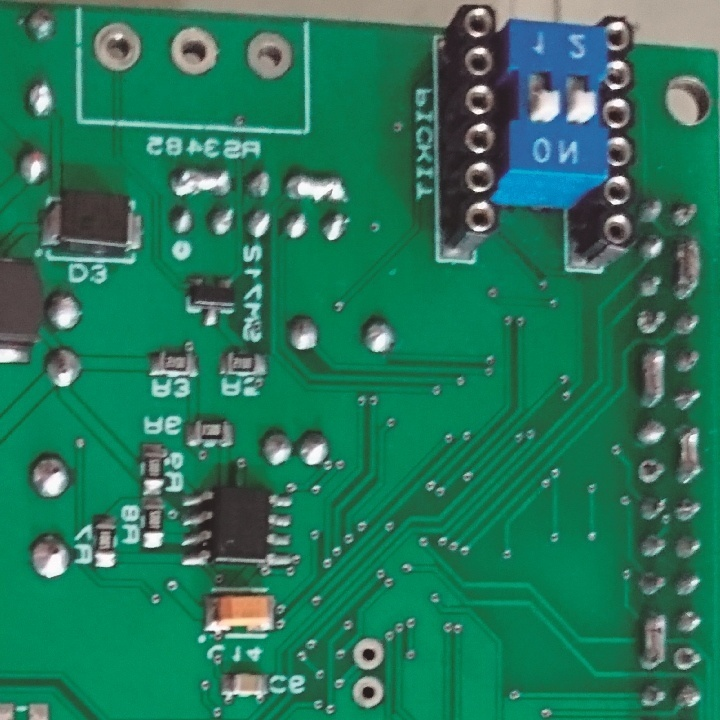F: (242, 28, 297, 82), (167, 25, 218, 79), (92, 21, 141, 72), (347, 672, 385, 712), (350, 636, 388, 673), (635, 303, 667, 337), (670, 644, 701, 673), (636, 456, 665, 485)
P: (283, 169, 350, 203), (171, 163, 232, 197), (638, 606, 668, 675), (672, 236, 702, 300), (640, 344, 667, 413), (676, 421, 703, 489)
